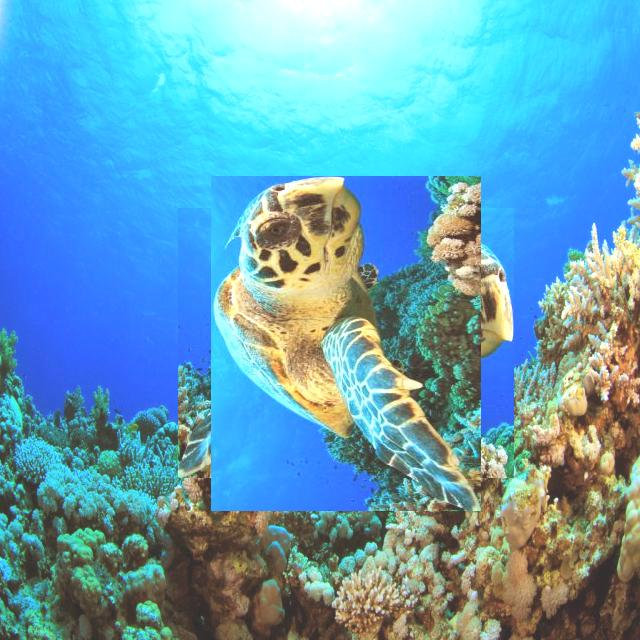Sea turtle: (195, 192, 498, 494)
